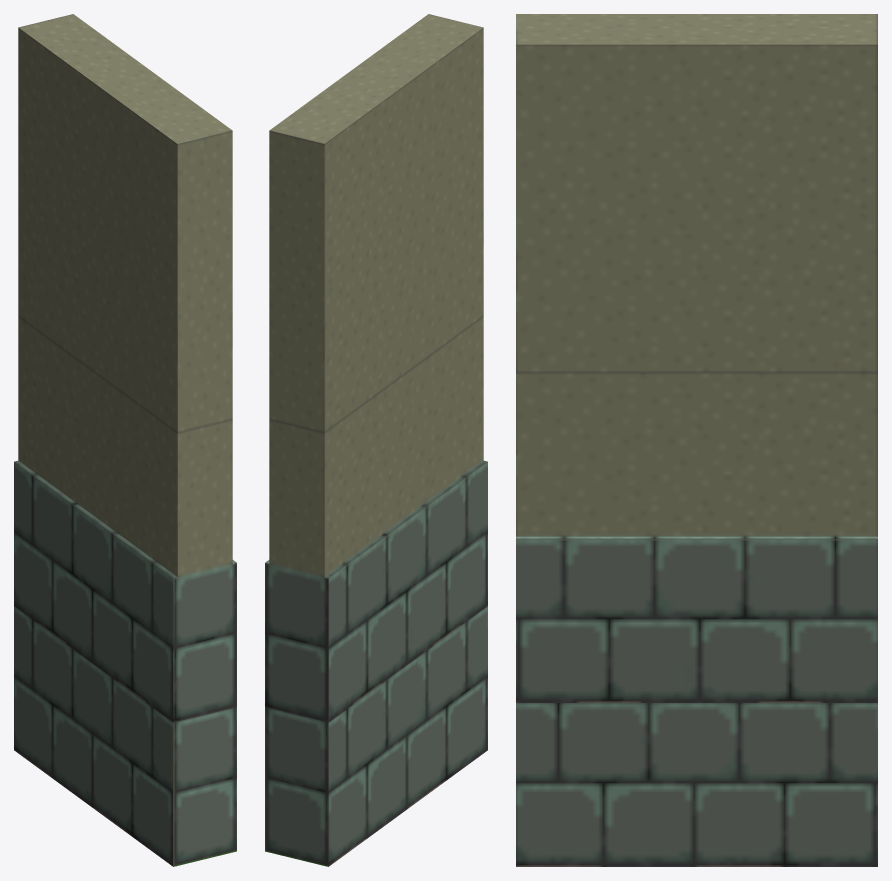
The model's file is obj_wall_1x2m_v3.fbx.
3 renders of one model, left to right at view 1: azimuth 30°, elevation 25°; view 2: azimuth 150°, elevation 25°; view 3: azimuth 270°, elevation 25°, orthographic. The views are drawn at different scales.
Parts seen in each view (by area): view 1: obj_wall_1x2m_v3; view 2: obj_wall_1x2m_v3; view 3: obj_wall_1x2m_v3.
Boxes of the visible parts, x1,y1,x2,y2 form: obj_wall_1x2m_v3: (14, 14, 236, 866); obj_wall_1x2m_v3: (265, 14, 487, 866); obj_wall_1x2m_v3: (516, 14, 877, 866).
Bounding box in the file's own units: 23 × 250 × 100.
